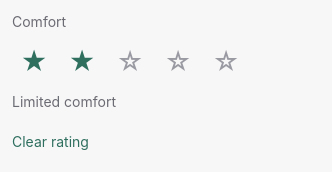
Scenario: the rating control › changes the rating on a second tap
The width and height of the screenshot is (332, 172).
Expected: the text "Limited comfort" is shown, [12,93,116,110]
Click the radio button named "5 of 5 — One of my most comfortable items" at (226, 62), box [204,40,248,84]
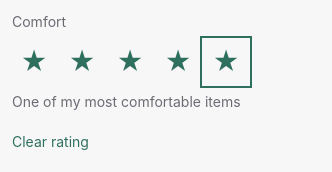
Expected: the text "One of my most comfortable items" is shown, [12,93,241,110]
Expected: the text "Limited comfort" is gone
